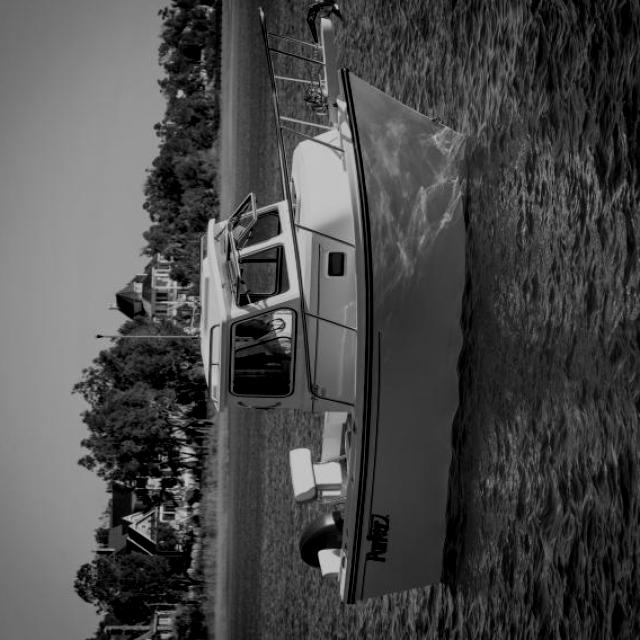ship: (103, 0, 484, 607)
